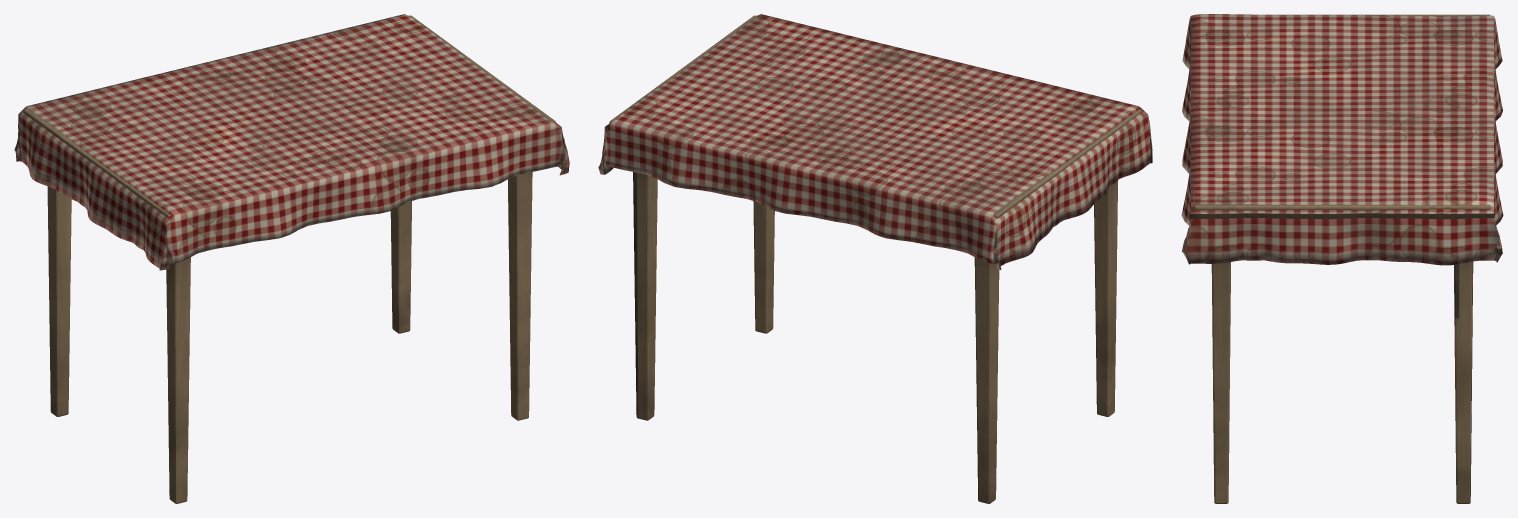
The model's file is DiningTable.fbx.
3 views of the same model, side by side, from view 1: azimuth 30°, elevation 25°; view 2: azimuth 150°, elevation 25°; view 3: azimuth 270°, elevation 25° (orthographic).
Parts seen in each view (by area): view 1: DiningTable_Mesh; view 2: DiningTable_Mesh; view 3: DiningTable_Mesh.
Boxes of the visible parts, x1,y1,x2,y2 form: DiningTable_Mesh: (14, 14, 569, 503); DiningTable_Mesh: (598, 14, 1152, 503); DiningTable_Mesh: (1181, 14, 1503, 503).
Bounding box in the file's own units: 1.06 × 0.7459 × 0.7049.
